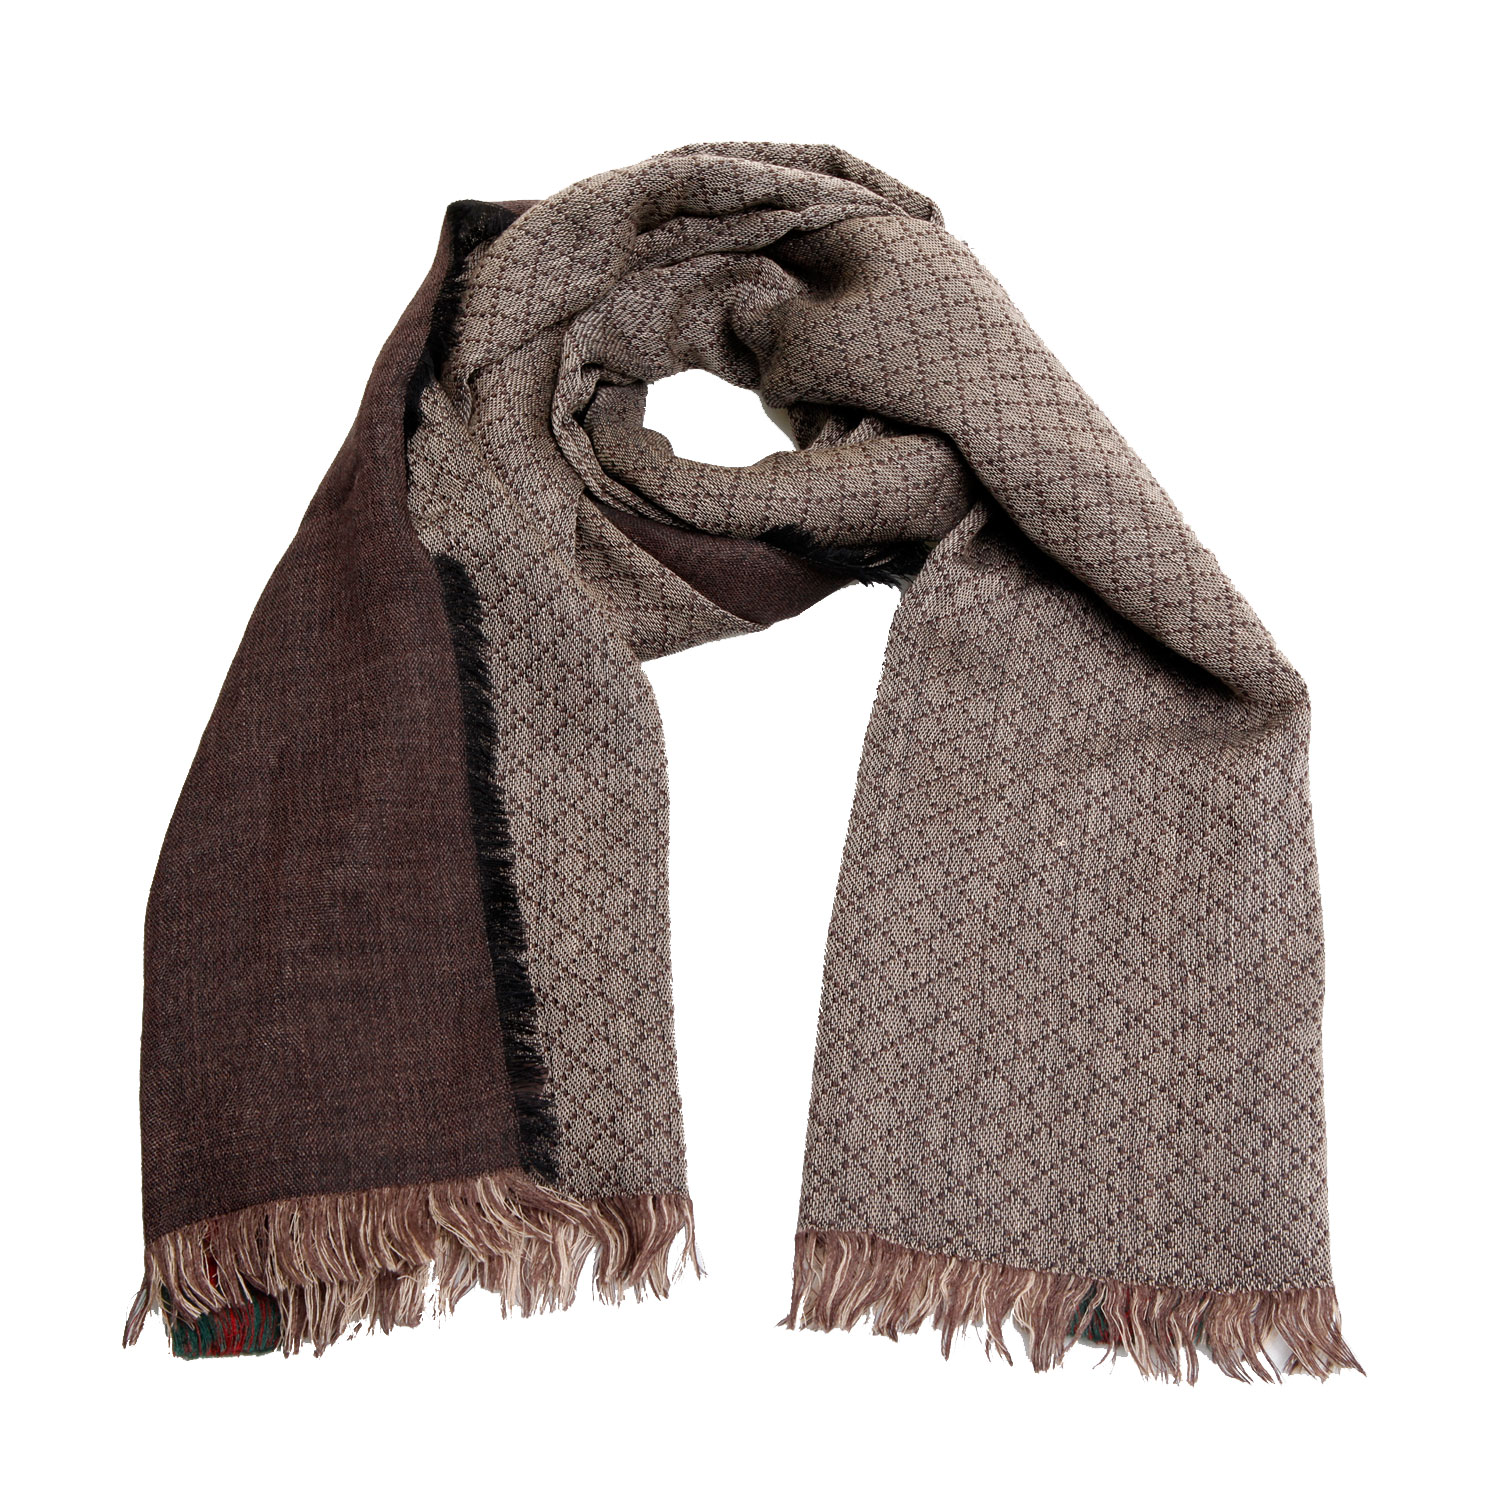flexible: (113, 133, 1367, 1409)
